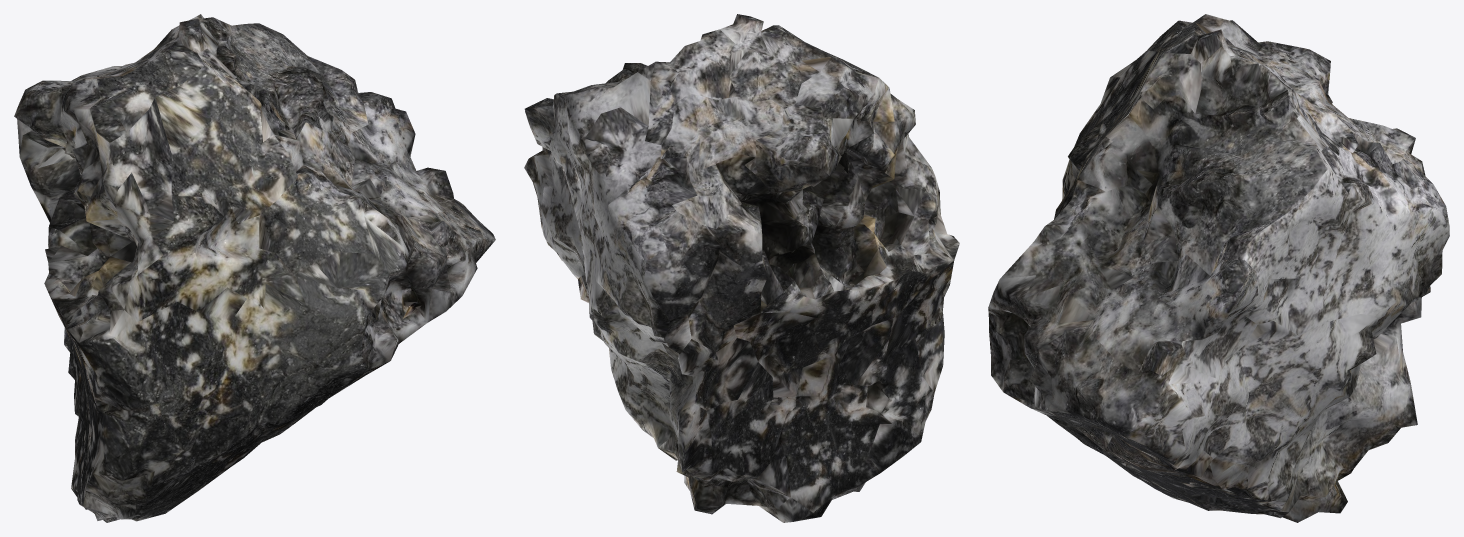
Rendered from stone-transformed.glb.
The picture shows the model from 3 angles, left to right: view 1: azimuth 30°, elevation 25°; view 2: azimuth 150°, elevation 25°; view 3: azimuth 270°, elevation 25°; orthographic projection. The views are drawn at different scales.
Visible parts, largest first — view 1: stone; view 2: stone; view 3: stone.
Boxes of the visible parts, x1=… form: stone: x1=14, y1=14, x2=495, y2=522; stone: x1=524, y1=14, x2=959, y2=522; stone: x1=988, y1=14, x2=1449, y2=522.
Size of the model in its own units: 0.0281 by 0.0301 by 0.0249.
Materials: 1 (1 with a texture image).
